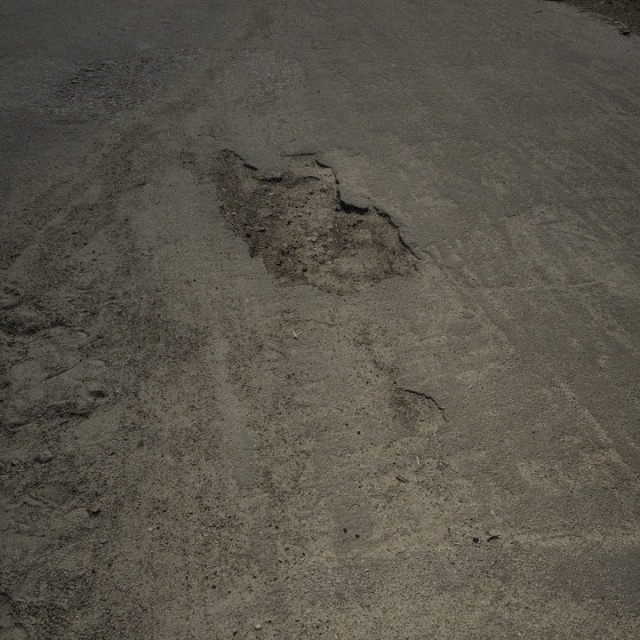pothole: (208, 145, 426, 297), (391, 384, 449, 436)
